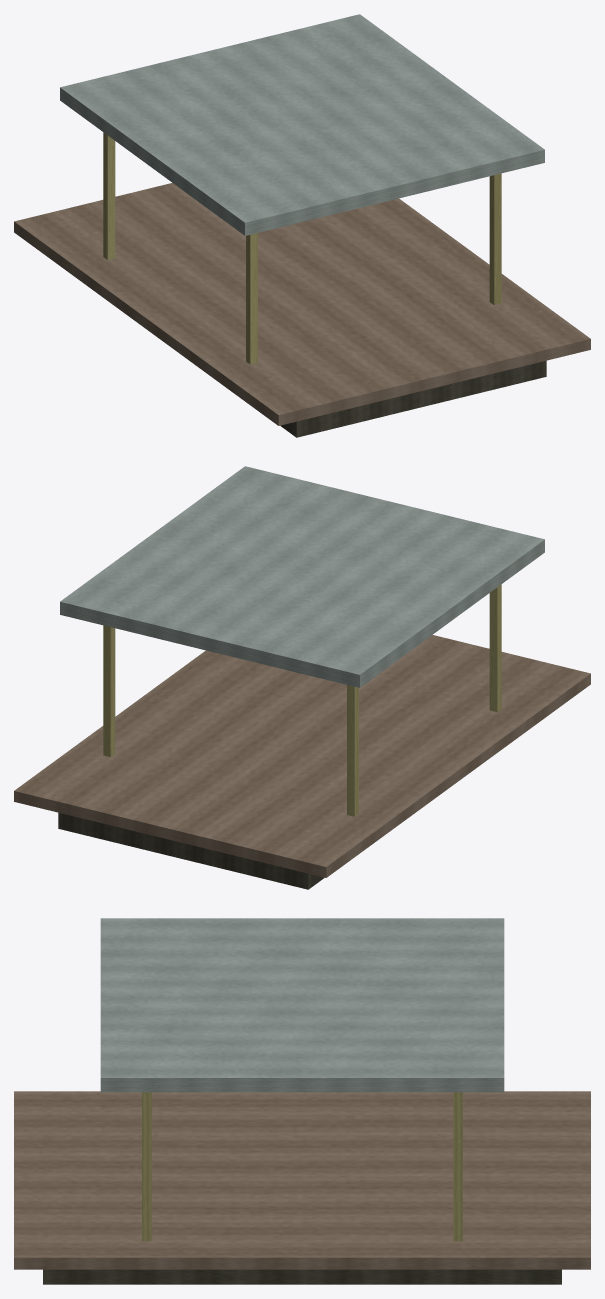
The model's file is bung-raft-1-grey-lod.glb.
3 views of the same model, one above another, from view 1: azimuth 30°, elevation 25°; view 2: azimuth 150°, elevation 25°; view 3: azimuth 270°, elevation 25° (orthographic). The views are drawn at different scales.
Visible parts, largest first — view 1: bung-raft-1-grey-lod; view 2: bung-raft-1-grey-lod; view 3: bung-raft-1-grey-lod.
Boxes of the visible parts, bbox=[...] form: bung-raft-1-grey-lod: bbox=[14, 14, 590, 437]; bung-raft-1-grey-lod: bbox=[14, 466, 590, 889]; bung-raft-1-grey-lod: bbox=[14, 918, 590, 1284].
Size of the model in its own units: 4.5 by 2.78 by 6.6.
1 material, 1 textured.
